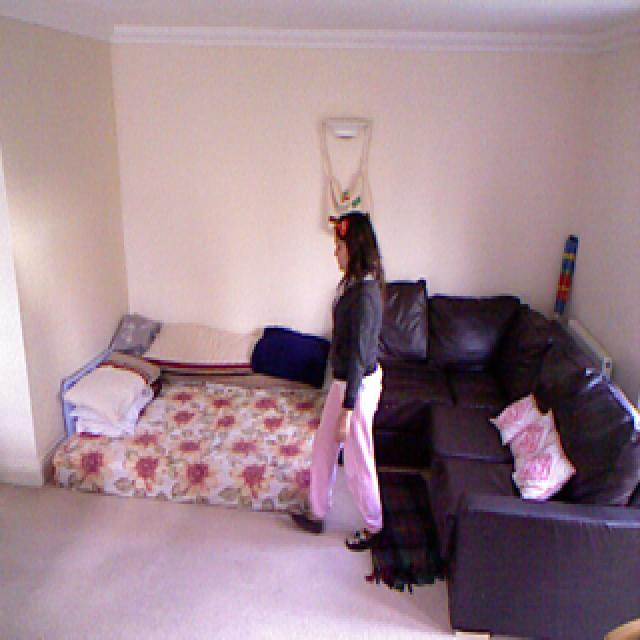standing: (307, 199, 388, 555)
